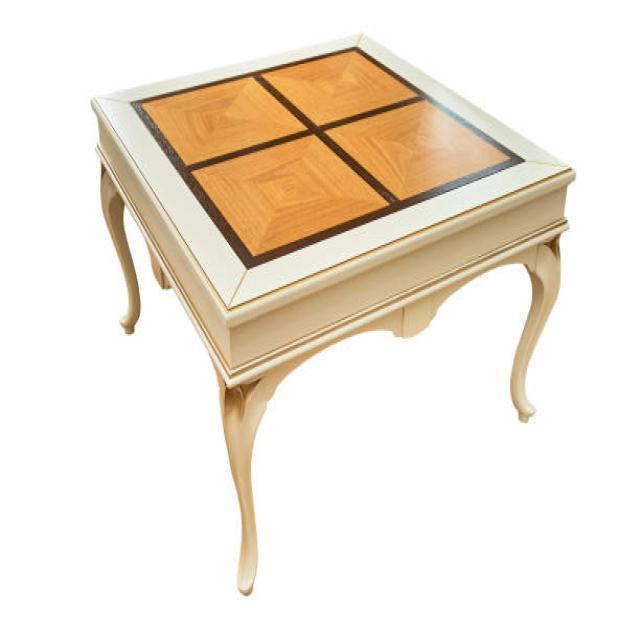table: (89, 29, 576, 594)
